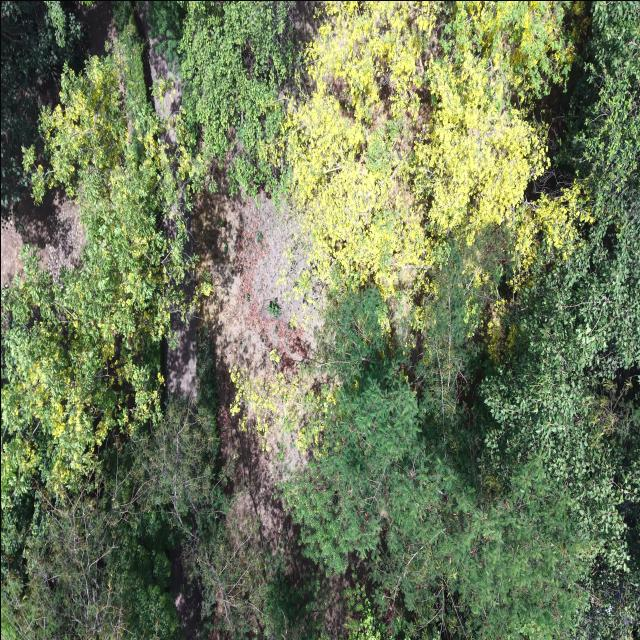DRY_AREA: (166, 177, 315, 575), (166, 175, 314, 575), (169, 191, 314, 575), (172, 180, 311, 559), (194, 191, 318, 589), (195, 194, 313, 546), (194, 192, 313, 376), (194, 191, 311, 370), (1, 191, 84, 287), (136, 1, 181, 118), (139, 1, 181, 117), (162, 312, 198, 399), (76, 1, 117, 58), (1, 222, 22, 287)
VEGETATION_TREE: (1, 1, 639, 639), (285, 4, 639, 638), (1, 26, 216, 638), (285, 289, 595, 639), (483, 4, 639, 638), (1, 39, 194, 525), (288, 3, 581, 297), (1, 402, 225, 639), (148, 1, 297, 194), (179, 1, 295, 193), (1, 1, 81, 219)
